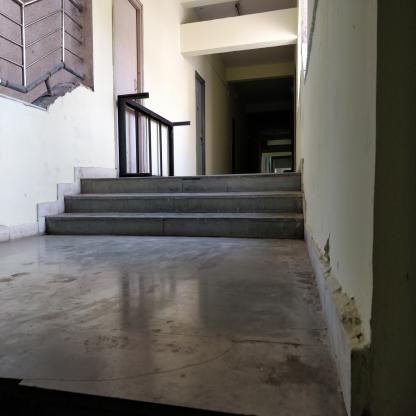stairs: (82, 174, 303, 246)
